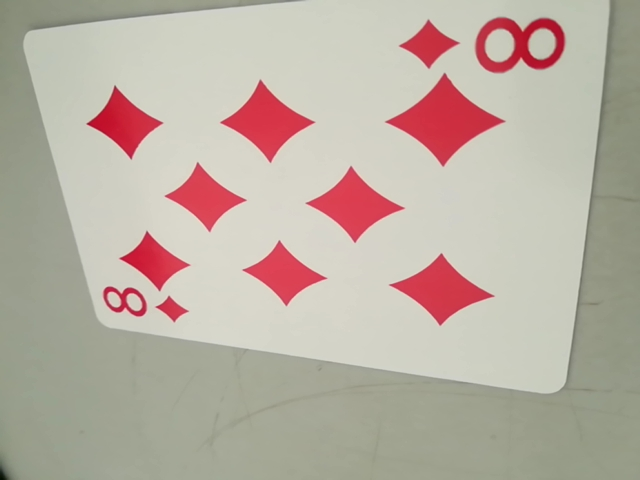fk 8: (399, 6, 566, 82), (98, 281, 186, 328)
